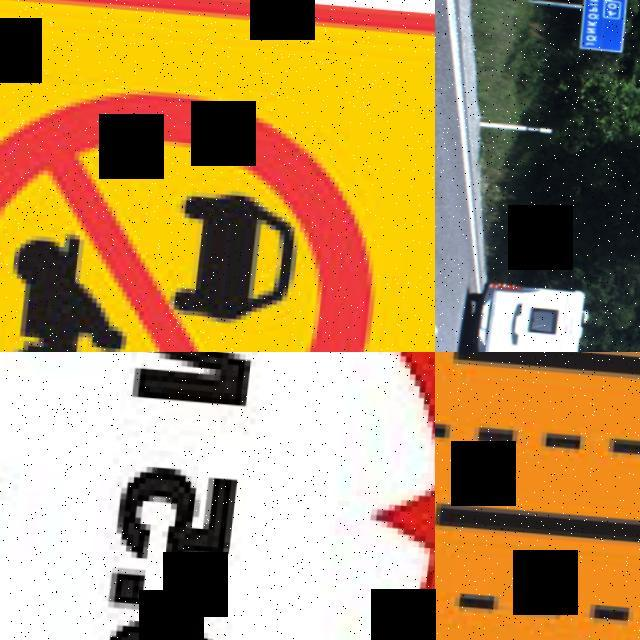5: (575, 0, 632, 54)
64: (435, 352, 640, 640)
82: (0, 0, 435, 352)
Height limit-3-5m: (0, 352, 435, 640)
